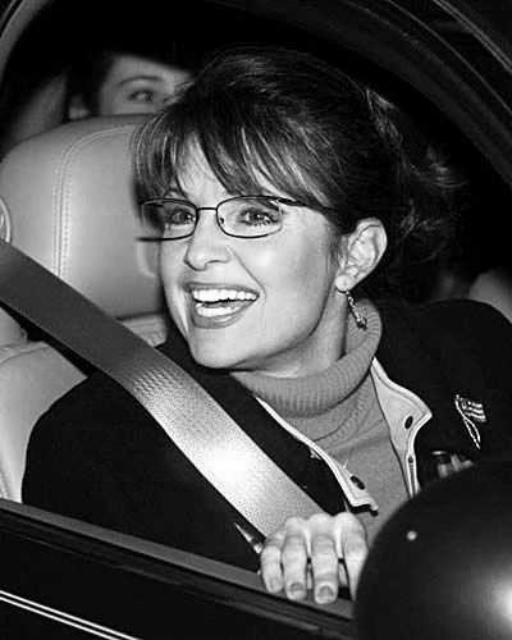SafeDriving: (226, 196, 289, 234), (159, 200, 200, 230)
Seatbelt: (0, 234, 334, 542)
